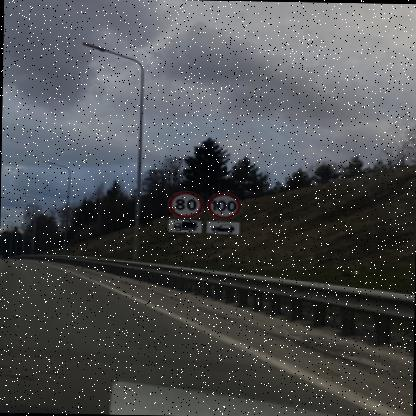speedlimit: (166, 188, 200, 216), (205, 190, 239, 216)
